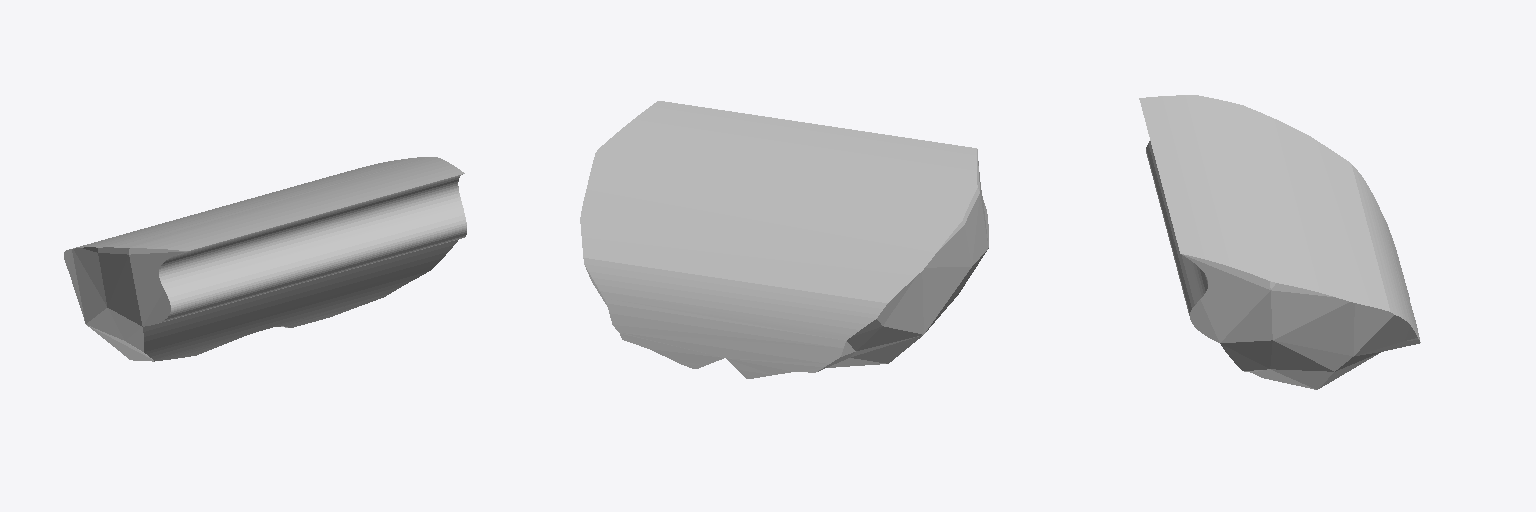
File: TemperolLob.obj
The picture shows the model from 3 angles: view 1: azimuth 30°, elevation 25°; view 2: azimuth 150°, elevation 25°; view 3: azimuth 270°, elevation 25°; orthographic projection.
Visible parts, largest first — view 1: Assem1.005; view 2: Assem1.005; view 3: Assem1.005.
Part boxes in pixels (left/top/right/bottom): Assem1.005: left=64, top=157, right=466, bottom=361; Assem1.005: left=580, top=101, right=988, bottom=378; Assem1.005: left=1139, top=95, right=1420, bottom=389.
Bounding box in the file's own units: 5.18 × 2.51 × 3.57.